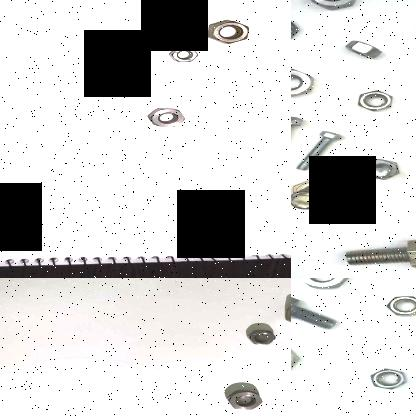Bolts: (338, 236, 416, 271), (291, 174, 357, 215), (291, 128, 344, 170), (291, 294, 344, 331), (357, 159, 413, 185), (291, 341, 312, 375), (291, 111, 304, 157)
NUTS: (339, 34, 391, 64), (364, 364, 412, 396), (350, 88, 398, 114), (206, 18, 252, 44), (145, 106, 190, 128), (223, 389, 268, 411), (291, 278, 356, 293), (291, 66, 320, 98), (382, 293, 416, 318), (302, 0, 360, 13), (245, 328, 279, 346), (169, 44, 199, 64), (291, 15, 305, 42)
